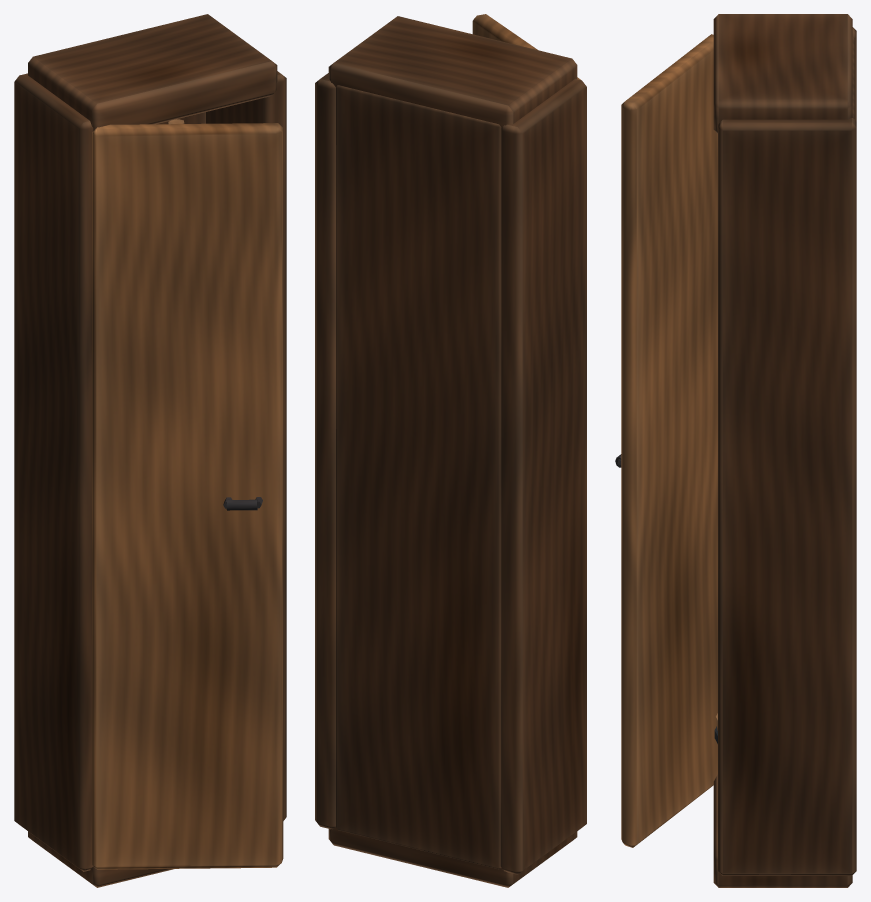
File: Furn_Vacant_CleaningLocker.fbx
3 renders of one model, left to right at view 1: azimuth 30°, elevation 25°; view 2: azimuth 150°, elevation 25°; view 3: azimuth 270°, elevation 25°, orthographic.
Visible parts, largest first — view 1: Furn_Vacant_CleaningLocker; view 2: Furn_Vacant_CleaningLocker; view 3: Furn_Vacant_CleaningLocker.
Part boxes in pixels (<box>): Furn_Vacant_CleaningLocker: <box>14,14,286,887</box>; Furn_Vacant_CleaningLocker: <box>315,14,586,887</box>; Furn_Vacant_CleaningLocker: <box>615,14,856,887</box>.
Bounding box in the file's own units: 0.5 × 1.8 × 0.5.
Materials: 4 (4 with a texture image).
